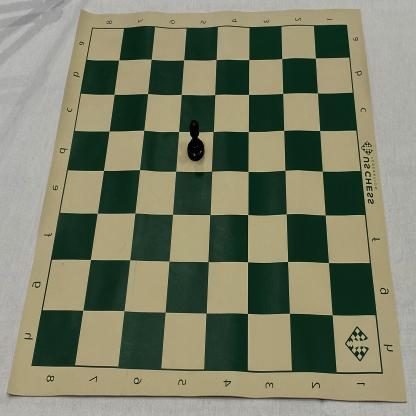black-pawn: (187, 120, 205, 162)
